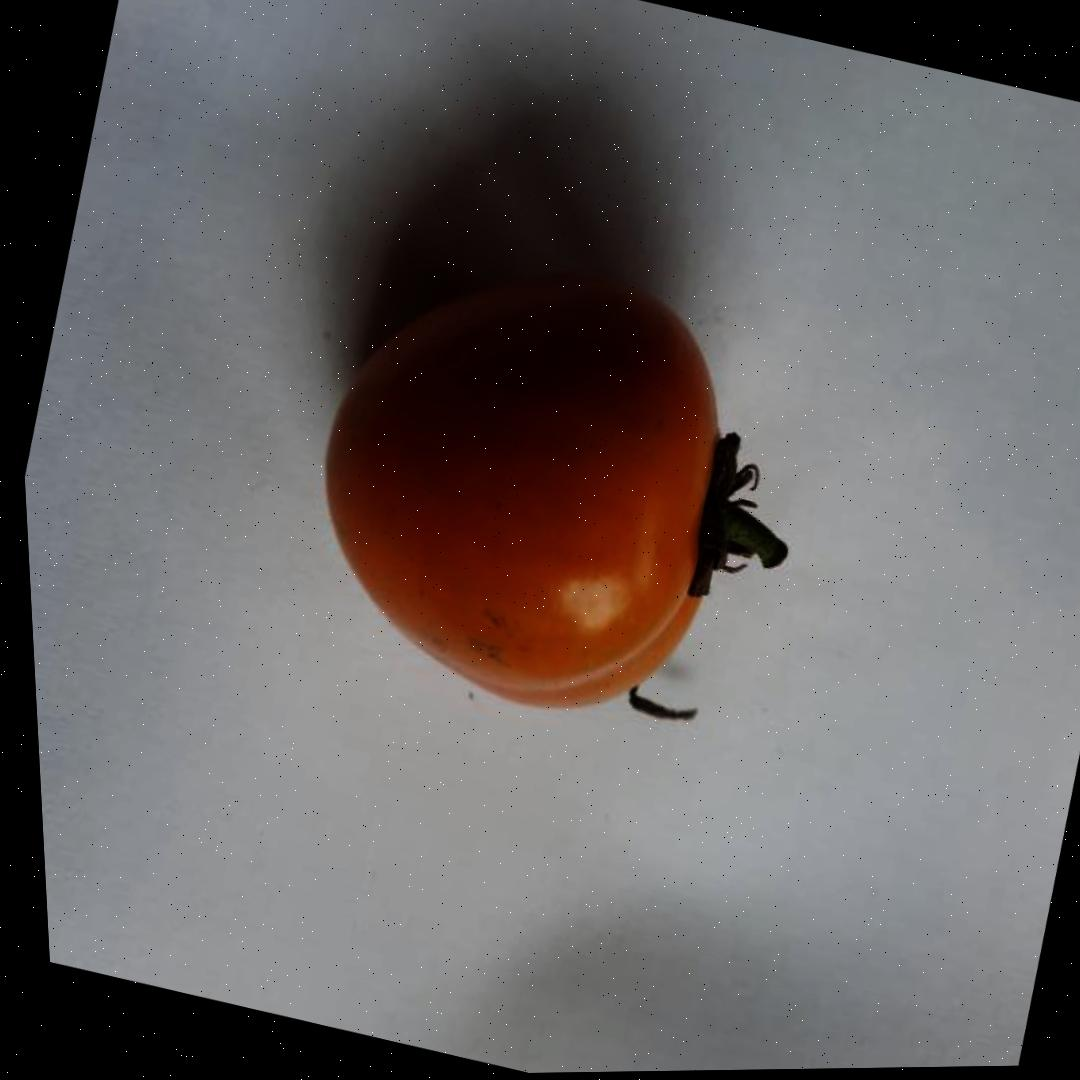setengah_matang: (262, 214, 786, 750)
